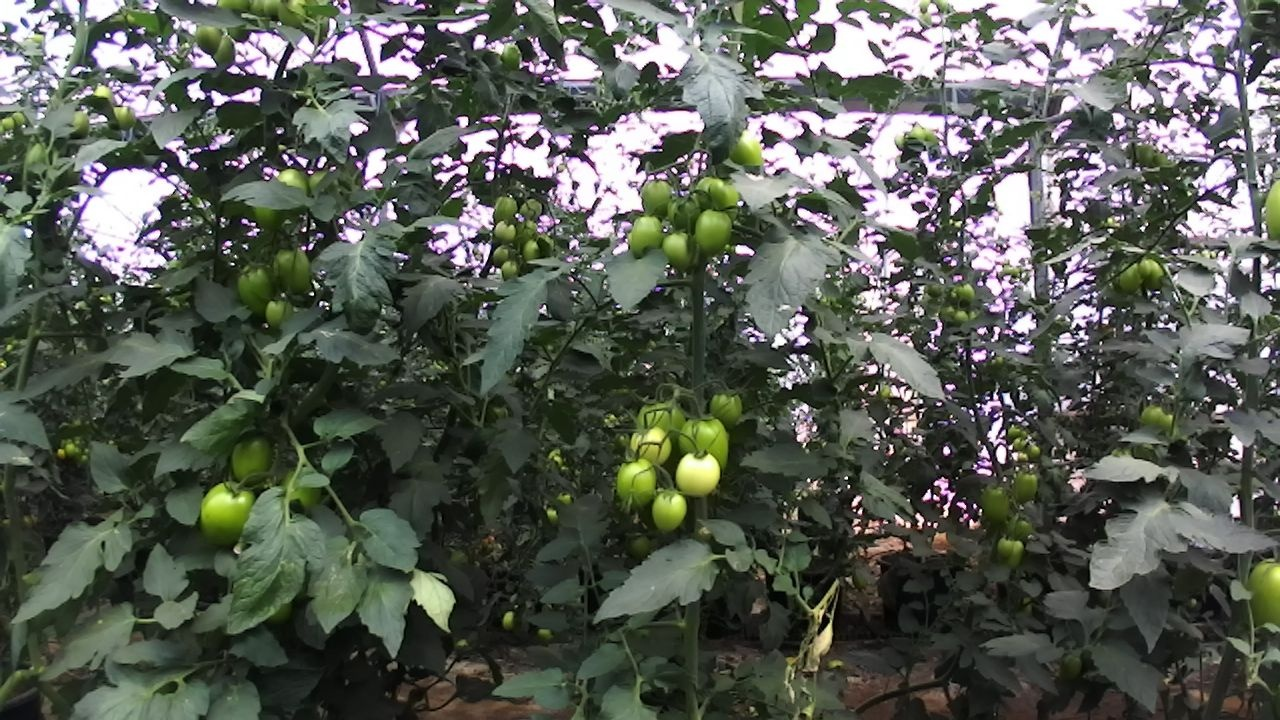tomato: (186, 467, 275, 554), (215, 421, 290, 495), (673, 407, 734, 477), (717, 124, 781, 188), (630, 389, 691, 453), (609, 449, 666, 514), (230, 252, 286, 318), (264, 239, 319, 304), (670, 443, 727, 502), (265, 158, 318, 220), (621, 418, 678, 472), (645, 481, 693, 539), (689, 204, 736, 261), (1135, 392, 1183, 443), (635, 174, 681, 225), (705, 383, 748, 435), (657, 226, 701, 276), (624, 210, 667, 261), (661, 191, 707, 238), (188, 16, 233, 58), (258, 291, 301, 333), (979, 480, 1013, 528), (209, 32, 244, 76), (491, 38, 528, 78), (487, 189, 523, 229), (1136, 253, 1171, 294), (104, 99, 142, 136), (1114, 258, 1146, 299), (1010, 466, 1041, 508), (65, 106, 96, 143), (489, 215, 521, 249), (517, 191, 545, 224), (90, 79, 117, 113), (496, 605, 524, 635), (1005, 538, 1027, 571), (520, 235, 544, 265), (498, 255, 522, 285), (487, 242, 512, 268), (994, 534, 1016, 559), (1136, 252, 1154, 280)
